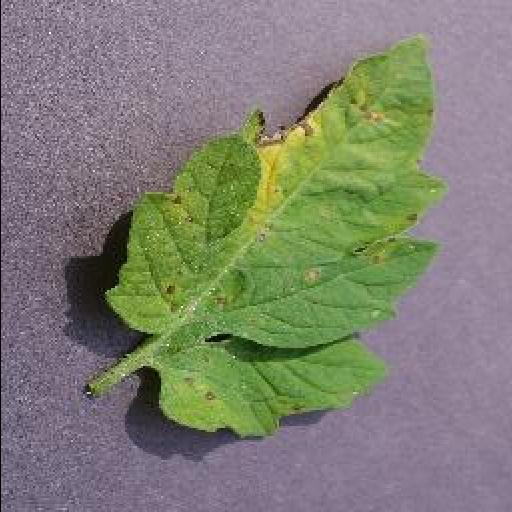disease_tomato: (103, 35, 437, 443)
